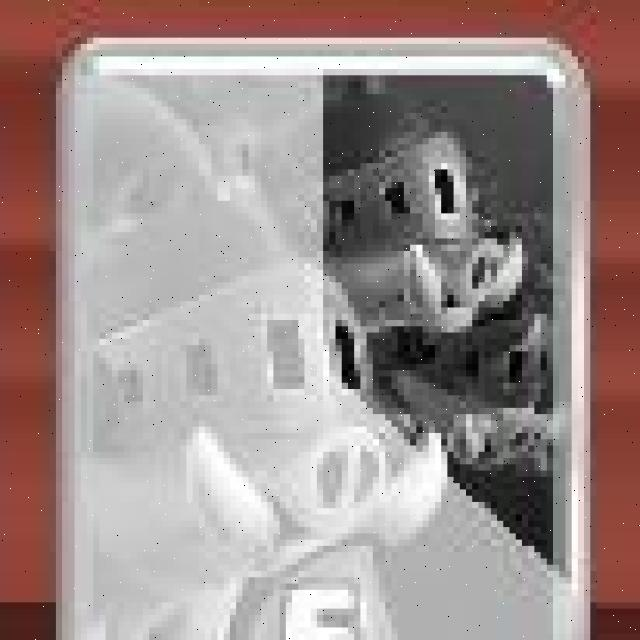Royal_Hogs: (61, 42, 590, 640)
